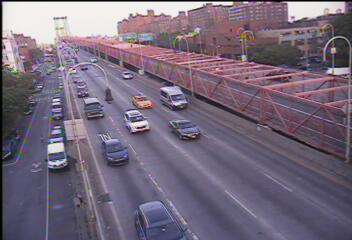neg: (122, 160, 151, 198), (135, 36, 161, 70), (258, 130, 283, 164), (278, 57, 300, 86), (47, 98, 69, 127), (171, 122, 192, 150), (146, 85, 165, 110), (55, 50, 73, 75), (97, 85, 115, 109), (183, 51, 201, 75), (52, 161, 69, 183), (52, 10, 69, 32), (258, 72, 274, 93), (214, 64, 228, 83), (285, 105, 299, 124), (208, 157, 221, 173)
